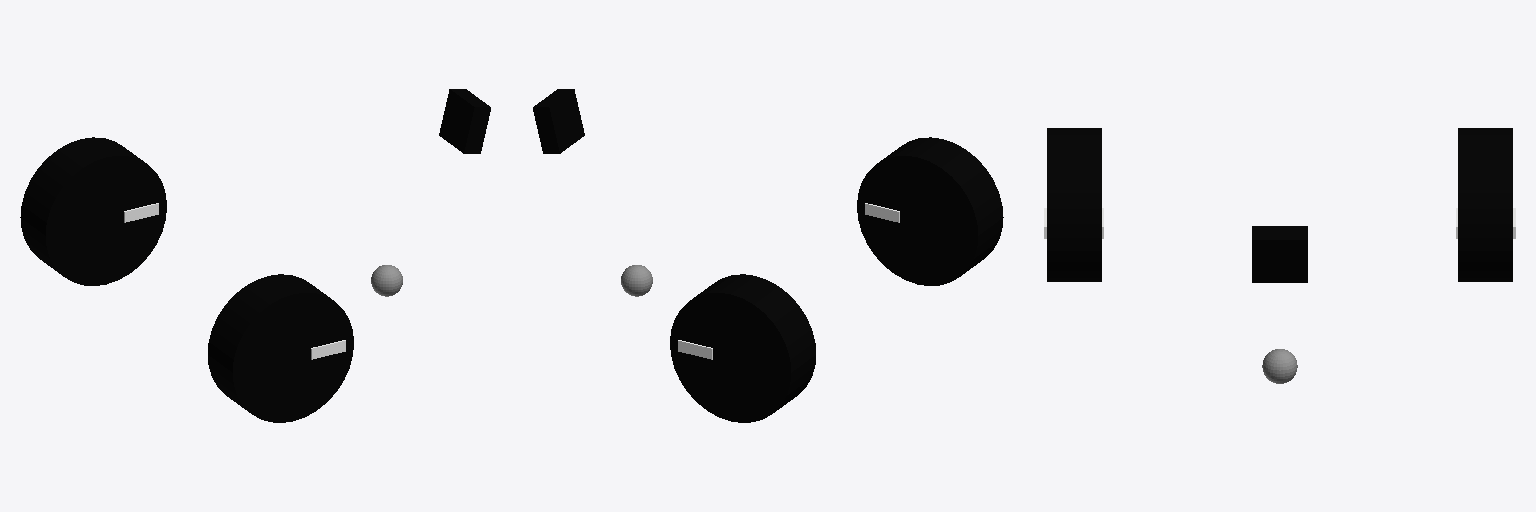
robot.urdf — robot:
<?xml version="1.0"?>
<!-- URDF untuk RViz (cermin dari models/robot/model.sdf). Path mesh diisi oleh run_rviz.sh -->
<robot name="robot">
  <material name="blue"><color rgba="0.1 0.3 0.8 1"/></material>
  <material name="black"><color rgba="0.05 0.05 0.05 1"/></material>
  <material name="grey"><color rgba="0.6 0.6 0.6 1"/></material>
  <material name="white"><color rgba="1 1 1 1"/></material>

  <link name="base_footprint"/>

  <link name="base_link">
    <visual>
      <geometry><mesh filename="file://@ROOT@/models/robot/meshes/robot_body.stl"/></geometry>
      <material name="blue"/>
    </visual>
    <visual>
      <origin xyz="0.115 0 0.008"/>
      <geometry><sphere radius="0.008"/></geometry>
      <material name="grey"/>
    </visual>
  </link>
  <joint name="base_joint" type="fixed">
    <parent link="base_footprint"/><child link="base_link"/>
  </joint>

  <link name="imu_link"/>
  <joint name="imu_joint" type="fixed">
    <parent link="base_link"/><child link="imu_link"/>
    <origin xyz="0.05 0 0.06"/>
  </joint>

  <link name="camera_link">
    <visual>
      <geometry><box size="0.01 0.025 0.025"/></geometry>
      <material name="black"/>
    </visual>
  </link>
  <joint name="camera_joint" type="fixed">
    <parent link="base_link"/><child link="camera_link"/>
    <origin xyz="0.16 0 0.085" rpy="0 0.25 0"/>
  </joint>

  <link name="left_wheel">
    <visual>
      <geometry><cylinder radius="0.035" length="0.025"/></geometry>
      <material name="black"/>
    </visual>
    <visual>
      <origin xyz="0.02 0 0"/>
      <geometry><box size="0.02 0.006 0.027"/></geometry>
      <material name="white"/>
    </visual>
  </link>
  <joint name="left_wheel_joint" type="continuous">
    <parent link="base_link"/><child link="left_wheel"/>
    <origin xyz="0 0.09325 0.035" rpy="-1.5708 0 0"/>
    <axis xyz="0 0 1"/>
  </joint>

  <link name="right_wheel">
    <visual>
      <geometry><cylinder radius="0.035" length="0.025"/></geometry>
      <material name="black"/>
    </visual>
    <visual>
      <origin xyz="0.02 0 0"/>
      <geometry><box size="0.02 0.006 0.027"/></geometry>
      <material name="white"/>
    </visual>
  </link>
  <joint name="right_wheel_joint" type="continuous">
    <parent link="base_link"/><child link="right_wheel"/>
    <origin xyz="0 -0.09325 0.035" rpy="-1.5708 0 0"/>
    <axis xyz="0 0 1"/>
  </joint>
</robot>

--- Render facts (derived) ---
Views: 3 orthographic renders of the robot side by side, from view 1: azimuth 30°, elevation 25°; view 2: azimuth 150°, elevation 25°; view 3: azimuth 270°, elevation 25°.
Model robot with 6 links and 5 joints (2 continuous, 3 fixed), rooted at base_footprint, posed every joint at zero.
Visible links, largest first — view 1: left_wheel, right_wheel, camera_link, base_link; view 2: right_wheel, left_wheel, camera_link, base_link; view 3: left_wheel, right_wheel, camera_link, base_link.
Link boxes in pixels (box(x1,y1,x2,y2)): left_wheel: box(20, 137, 166, 285); right_wheel: box(208, 274, 353, 422); camera_link: box(439, 89, 490, 153); base_link: box(371, 265, 402, 296); right_wheel: box(857, 137, 1003, 285); left_wheel: box(670, 274, 815, 422); camera_link: box(533, 89, 584, 153); base_link: box(621, 265, 652, 296); left_wheel: box(1456, 128, 1515, 281); right_wheel: box(1044, 128, 1103, 281); camera_link: box(1252, 226, 1307, 282); base_link: box(1262, 349, 1297, 383).
Bounding box of the posed robot: 0.2029 × 0.2135 × 0.0983 m (x, y, z).
Geometry: only primitive shapes (box / cylinder / sphere) drawn; not drawn: 1 mesh visual (reference in a form the renderer does not follow).
